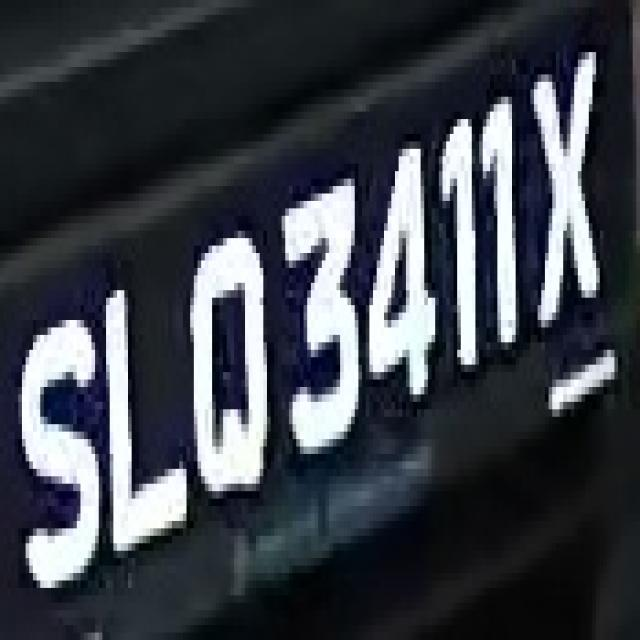1: (428, 90, 486, 410), (479, 67, 523, 372)
3: (274, 164, 358, 476)
4: (351, 111, 432, 416)
L: (92, 275, 190, 551)
Q: (183, 208, 281, 551)
S: (18, 298, 114, 588)
X: (523, 52, 618, 372)
